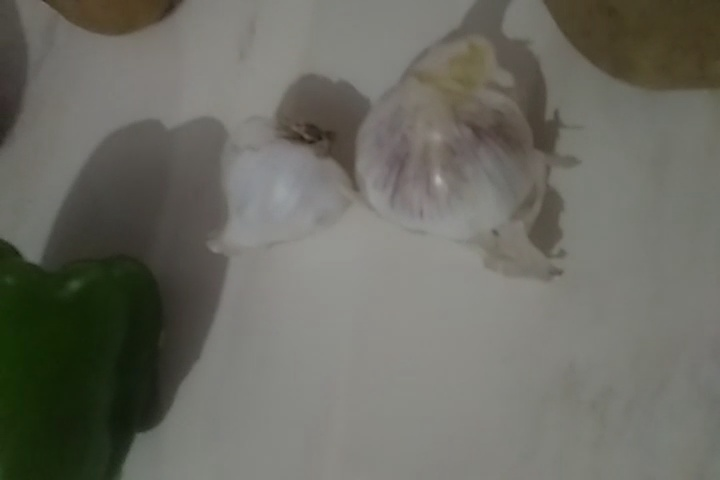capsicum: (1, 225, 185, 478)
garlic: (350, 69, 549, 269), (220, 125, 359, 247)
potato: (542, 1, 716, 99), (41, 1, 176, 44)
